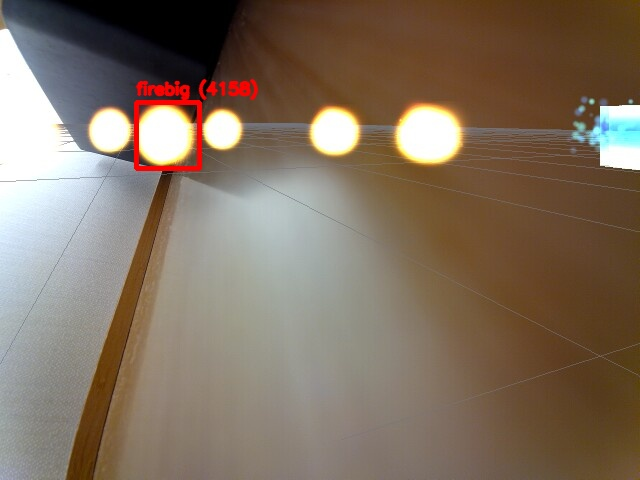firebig: (136, 102, 199, 168)
